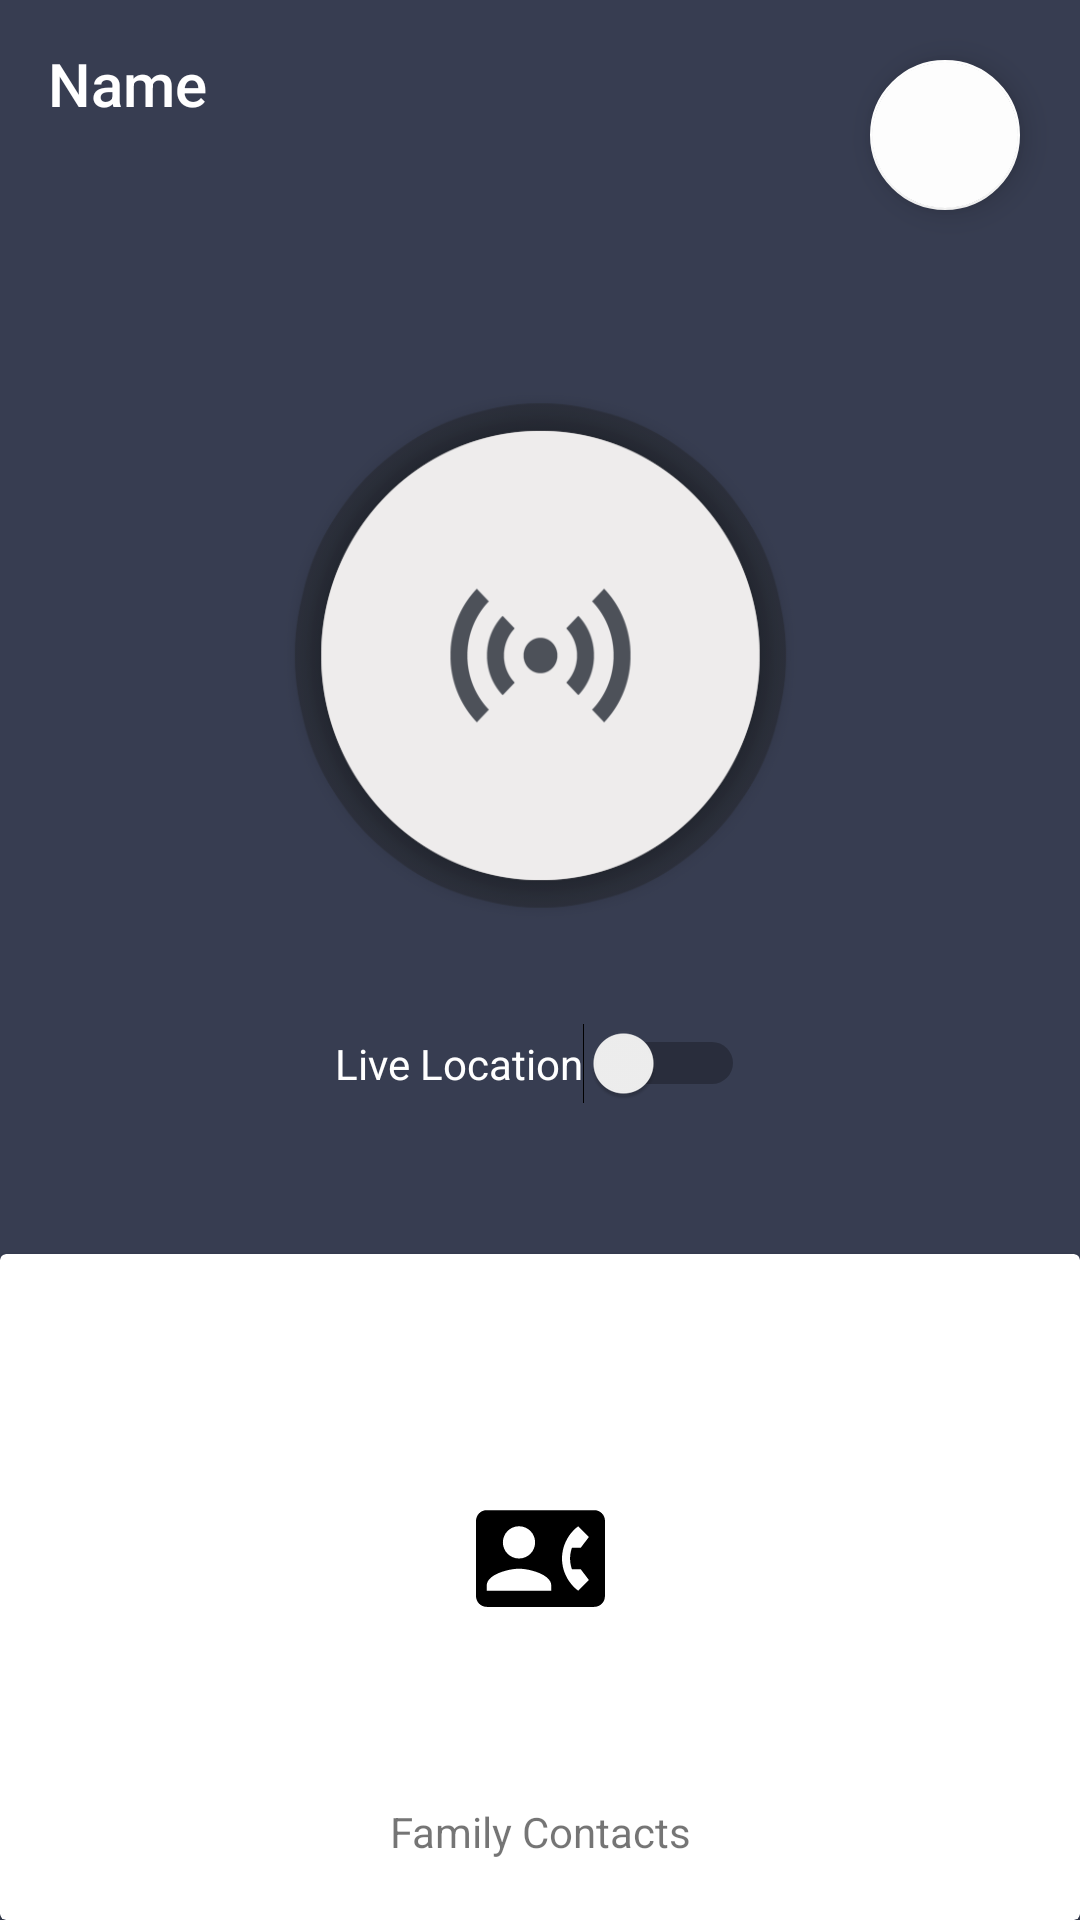

Screen size 1080x1920. Icon name, then its center in pixels as point (x, y):
contact phone: point (540, 1558)
